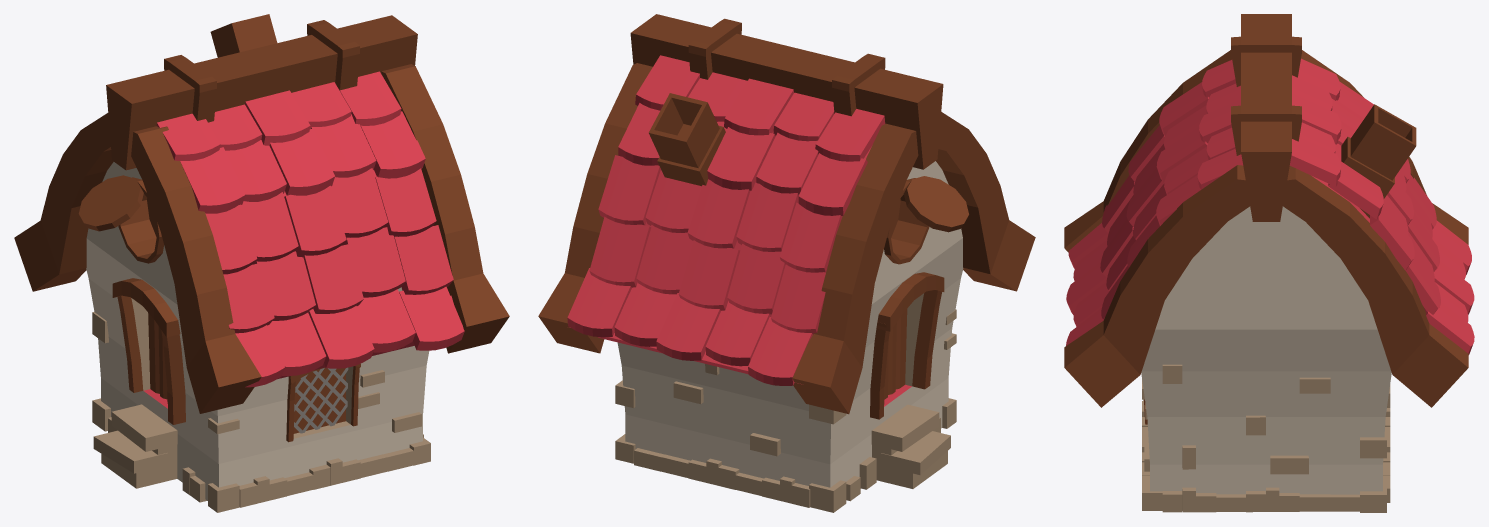
Rendered from house.fbx.
3 views of the same model, side by side, from view 1: azimuth 30°, elevation 25°; view 2: azimuth 150°, elevation 25°; view 3: azimuth 270°, elevation 25° (orthographic).
Visible parts, largest first — view 1: Plane.001, Plane, Cube, Plane.039, Plane.034, Plane.036, Plane.041, Plane.035, Plane.044, Plane.056, Plane.054, Plane.040 (+29 smaller); view 2: Plane, Plane.001, Cube, Plane.066, Plane.012, Plane.009, Plane.007, Plane.014, Plane.015, Plane.010, Plane.016, Plane.021 (+26 smaller); view 3: Plane, Plane.001, Cube, Plane.066, Plane.022, Plane.017, Plane.012, Plane.027, Plane.042, Plane.044, Plane.024, Plane.007 (+39 smaller).
Boxes of the visible parts, bbox=[...] form: Plane.001: bbox=[14, 64, 509, 413]; Plane: bbox=[86, 162, 429, 500]; Cube: bbox=[106, 15, 417, 170]; Plane.039: bbox=[284, 185, 346, 257]; Plane.034: bbox=[303, 244, 363, 313]; Plane.036: bbox=[394, 225, 453, 294]; Plane.041: bbox=[375, 168, 436, 236]; Plane.035: bbox=[343, 227, 405, 297]; Plane.044: bbox=[269, 128, 335, 195]; Plane.056: bbox=[399, 286, 464, 350]; Plane.054: bbox=[308, 306, 374, 368]; Plane.040: bbox=[331, 168, 388, 237]; Plane: bbox=[617, 161, 963, 487]; Plane.001: bbox=[538, 63, 1035, 414]; Cube: bbox=[630, 14, 943, 169]; Plane.066: bbox=[648, 93, 725, 186]; Plane.012: bbox=[598, 155, 660, 225]; Plane.009: bbox=[678, 240, 740, 310]; Plane.007: bbox=[589, 216, 651, 287]; Plane.014: bbox=[687, 179, 750, 248]; Plane.015: bbox=[736, 182, 798, 251]; Plane.010: bbox=[727, 244, 785, 314]; Plane.016: bbox=[780, 202, 842, 272]; Plane.021: bbox=[798, 153, 867, 215]; Plane: bbox=[1141, 206, 1391, 494]; Plane.001: bbox=[1064, 50, 1468, 407]; Cube: bbox=[1231, 14, 1301, 221]; Plane.066: bbox=[1341, 104, 1416, 218]; Plane.022: bbox=[1289, 137, 1340, 186]; Plane.017: bbox=[1328, 161, 1383, 219]; Plane.012: bbox=[1370, 204, 1414, 270]; Plane.027: bbox=[1424, 302, 1474, 354]; Plane.042: bbox=[1159, 82, 1208, 136]; Plane.044: bbox=[1156, 127, 1207, 182]; Plane.024: bbox=[1292, 93, 1341, 144]; Plane.007: bbox=[1405, 253, 1440, 314].
Bounding box in the file's own units: 3720 × 4307 × 4142.
